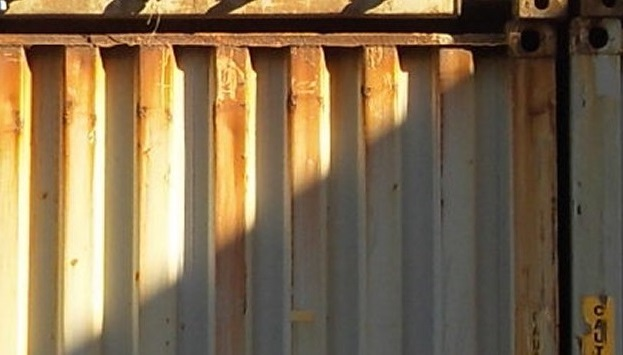container_no_door: (1, 25, 567, 354)
